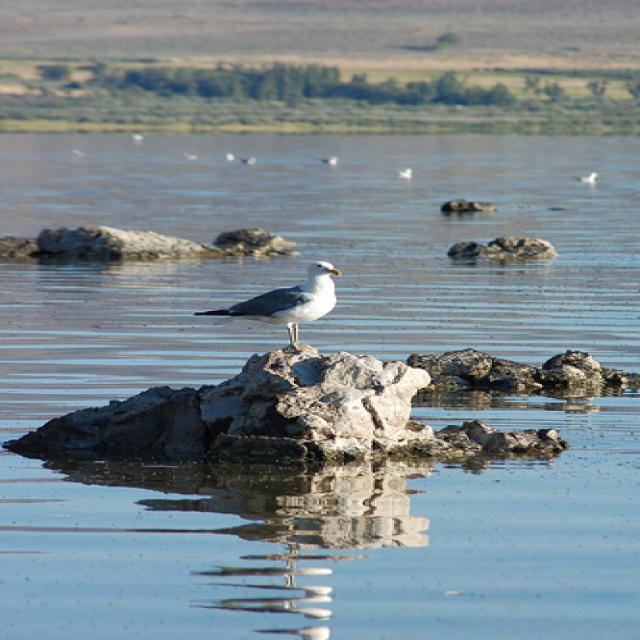bird: (193, 260, 347, 351)
